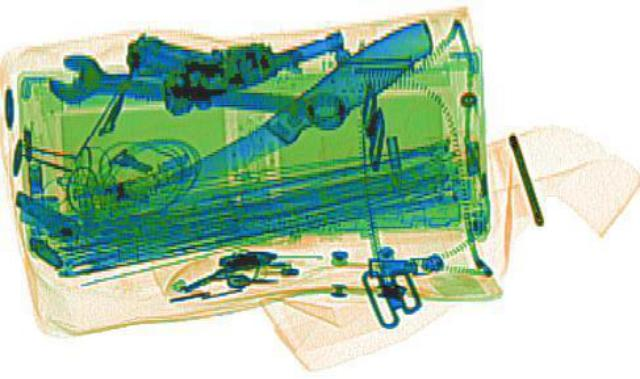Knife: (156, 12, 460, 203)
Wrench: (35, 50, 355, 138)
